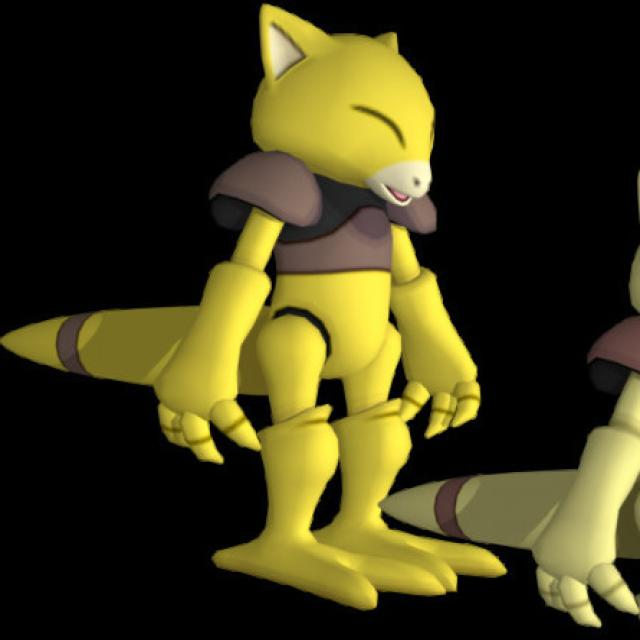Abra: (48, 19, 514, 602)
